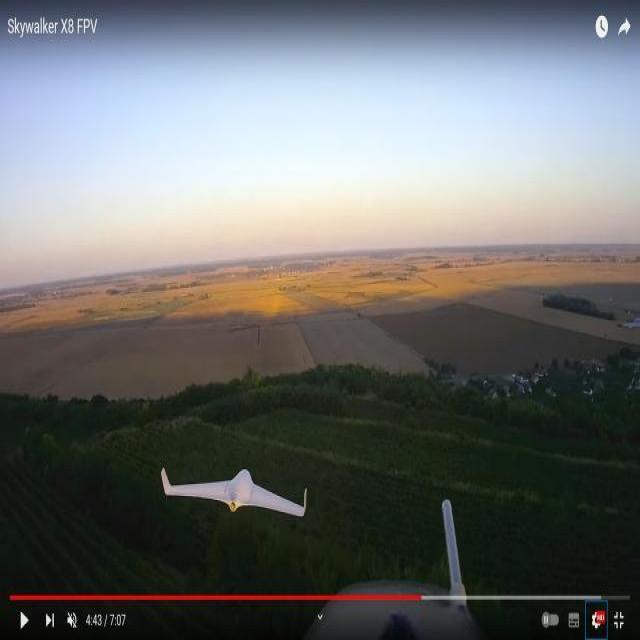UAV: (156, 433, 316, 528)
